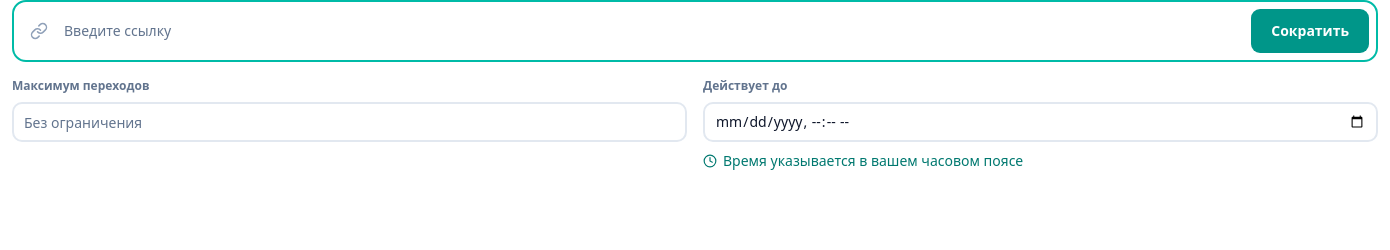
Test: CreateLinkForm › shows a readable message for a known server error
Step 1. Type "https://example.com" into the field named "Адрес ссылки" → point(646, 31), box [48, 5, 1244, 57]
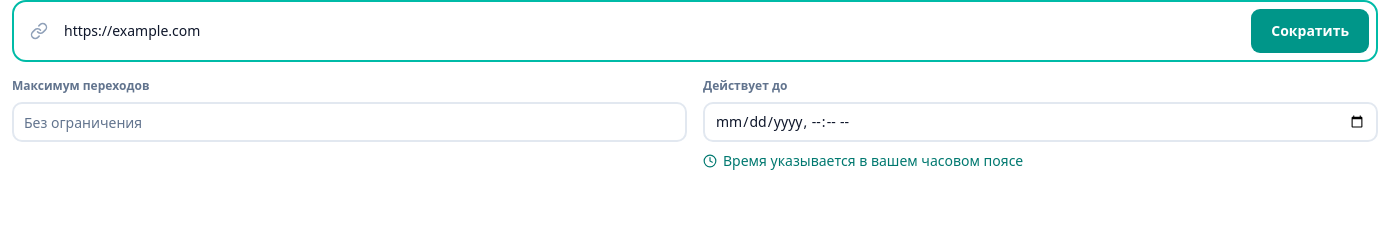
Step 2. Click the button "Сократить" → point(1310, 31), box [1250, 8, 1370, 54]
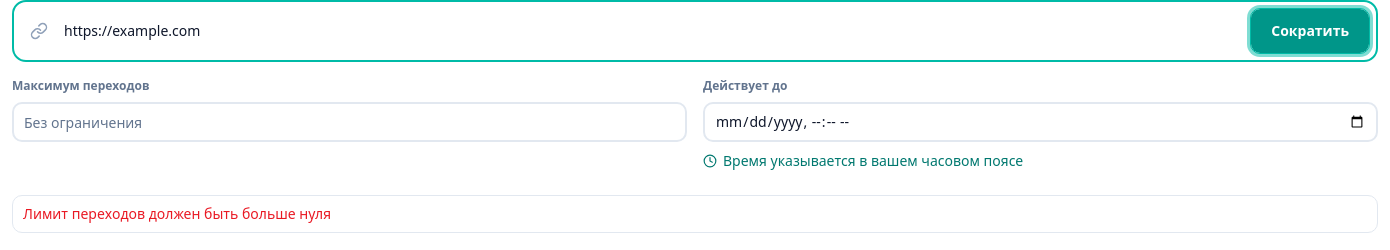
Expected: the text "Лимит переходов должен быть больше нуля" is shown, [23, 204, 331, 223]
